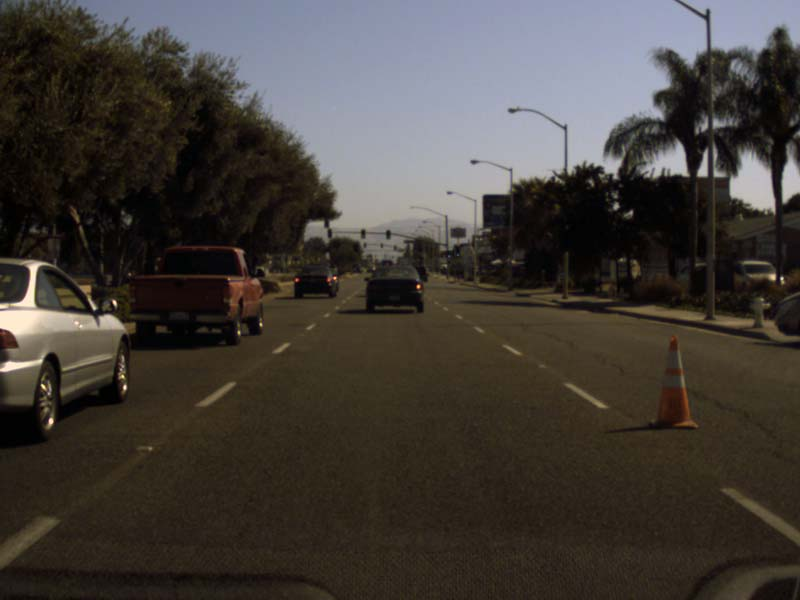Green: (360, 229, 365, 238), (455, 248, 459, 256), (447, 251, 451, 258)
